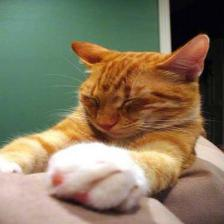cat: (64, 35, 221, 139)
